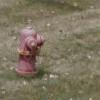Hydrant: (11, 19, 47, 85)
